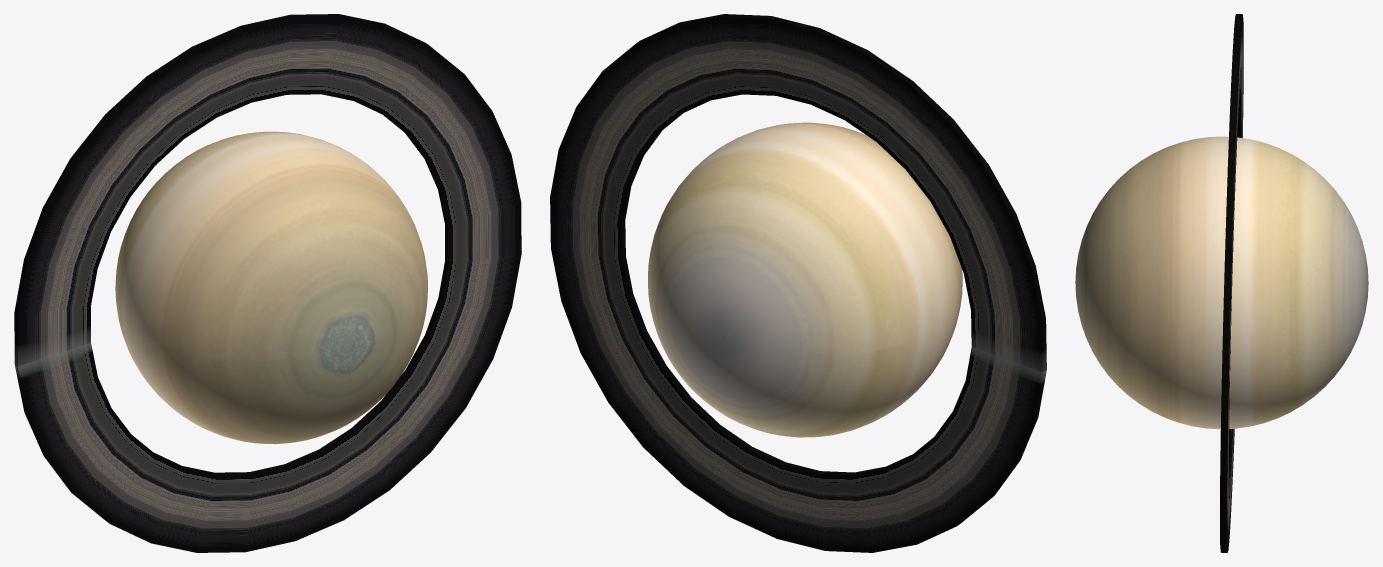
Rendered from Saturn.fbx.
3 views of the same model, side by side, from view 1: azimuth 30°, elevation 25°; view 2: azimuth 150°, elevation 25°; view 3: azimuth 270°, elevation 25° (orthographic). The views are drawn at different scales.
Visible parts, largest first — view 1: saturn; view 2: saturn; view 3: saturn.
Part boxes in pixels (x1,y1,x2,y2): saturn: (14,14,521,552); saturn: (550,14,1046,552); saturn: (1075,14,1368,552).
Bounding box in the file's own units: 789 × 789 × 430.
Materials: 1 (1 with a texture image).
